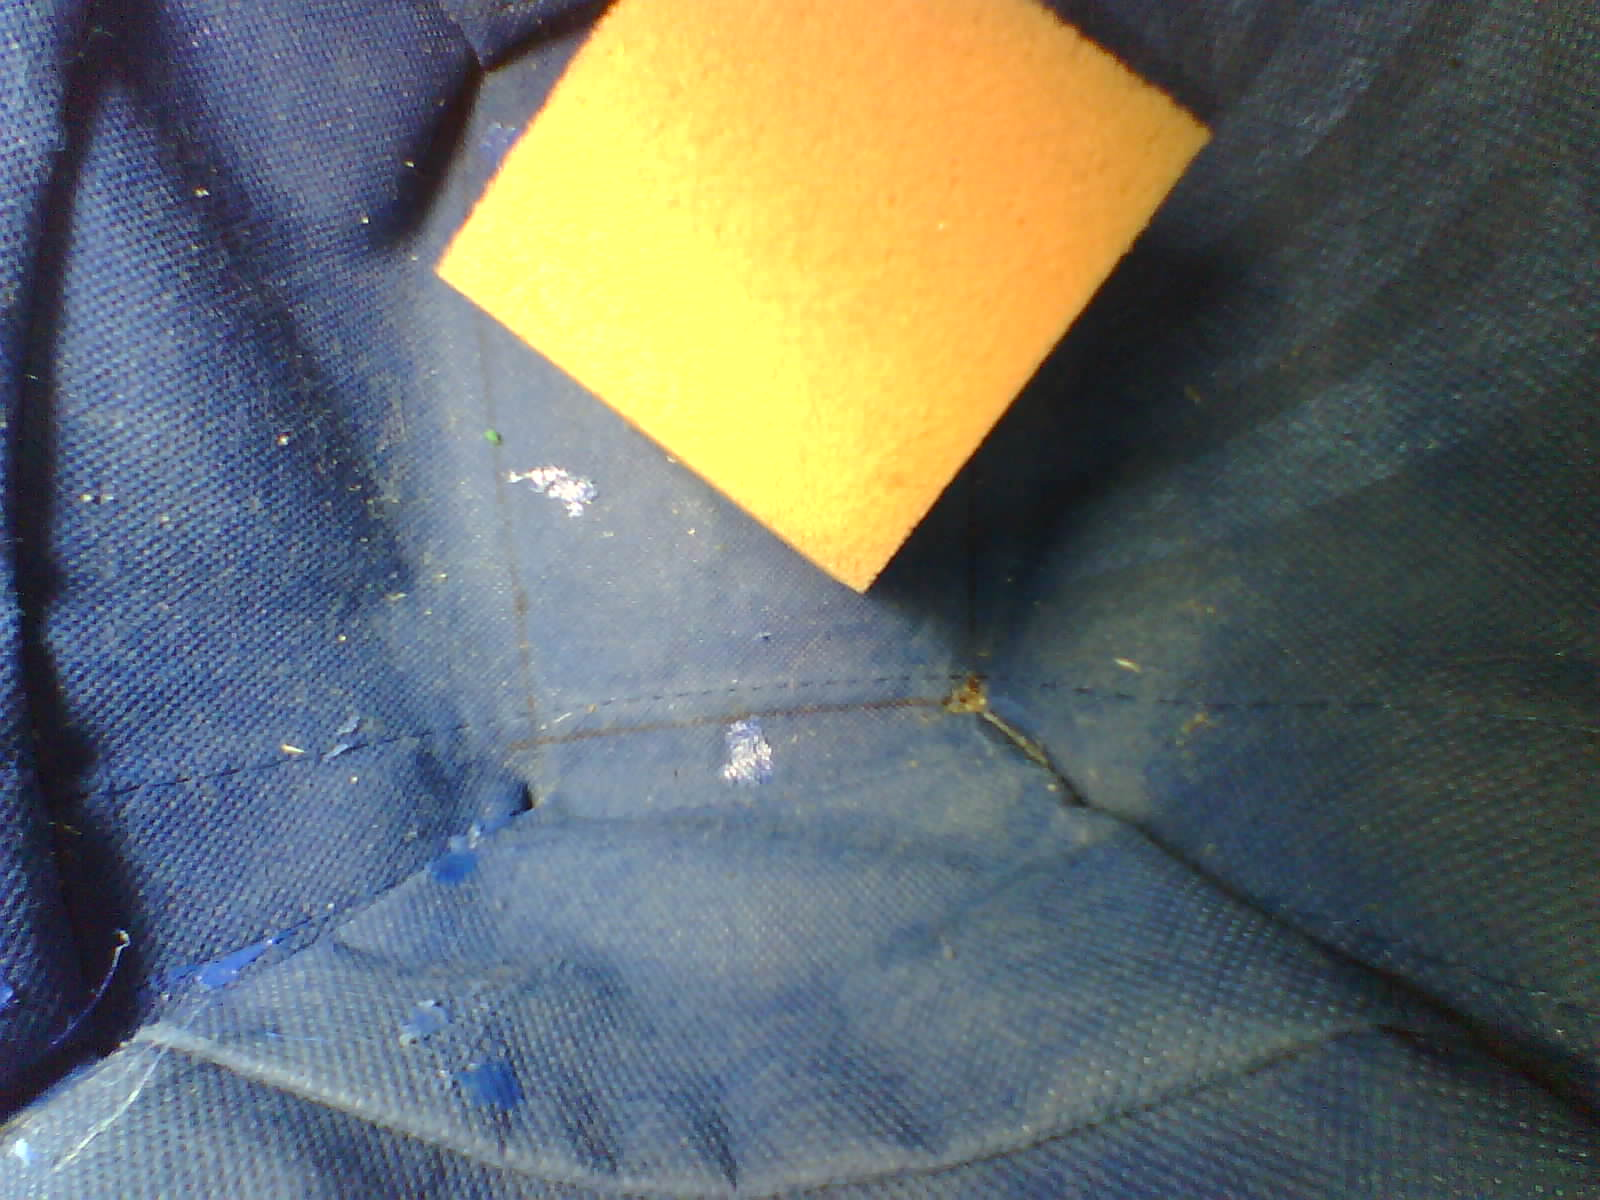cube-soft: (414, 0, 1223, 610)
